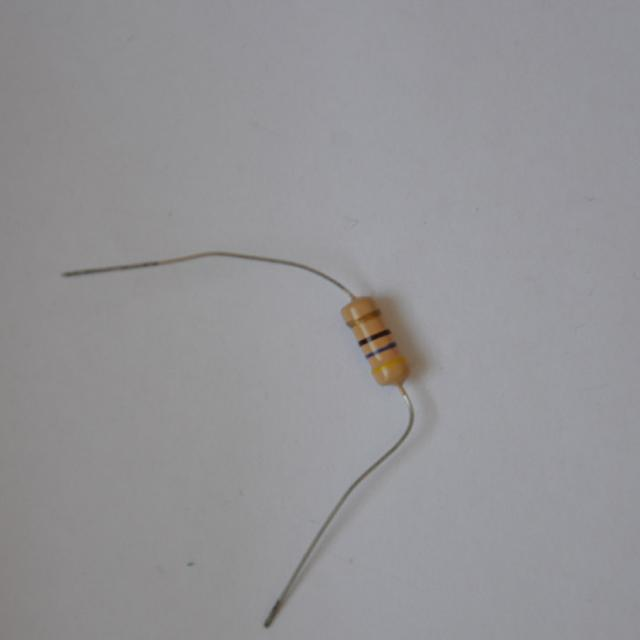brown: (358, 328, 388, 346)
gold: (350, 309, 379, 325)
resistor: (330, 285, 421, 399)
violet: (367, 343, 394, 358)
yellow: (371, 357, 402, 373)
